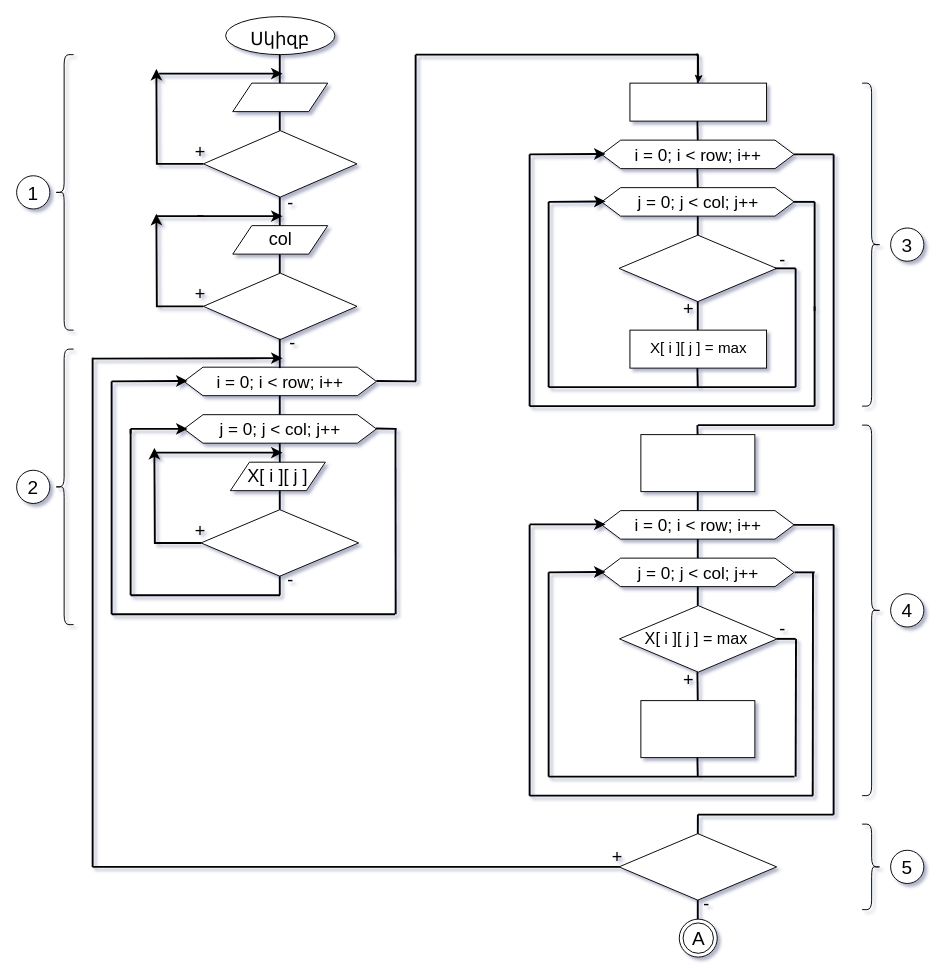
The diagram is 946 pixels wide and 979 high, and some of its shapes have lost their labels. The centre of each missing label's shape, as x and y in pixels:
col < 2 || col > K: (x=279, y=306)
counter ! = 1: (x=697, y=866)
counter ++ rowindex = i colindex = j: (x=697, y=729)
counter = 0 rowindex = 0 colindex = 0: (x=697, y=463)
int max = X[0][0]: (x=698, y=101)
row: (x=280, y=97)
row < 2 || row > K: (x=279, y=163)
X[ i ][ j ] > max: (x=697, y=268)
X[ i ][ j ] ≤ 0: (x=279, y=542)
